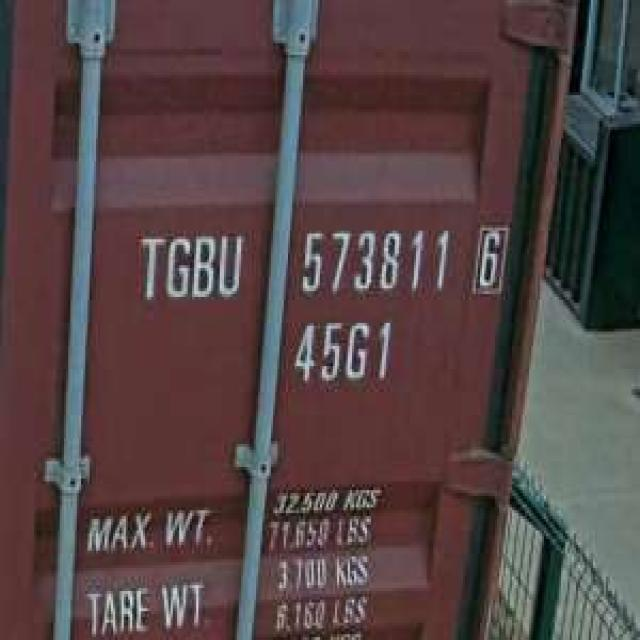dv: (469, 216, 510, 300)
owner: (132, 225, 245, 308)
serial: (292, 219, 452, 303)
size: (286, 311, 397, 392)
